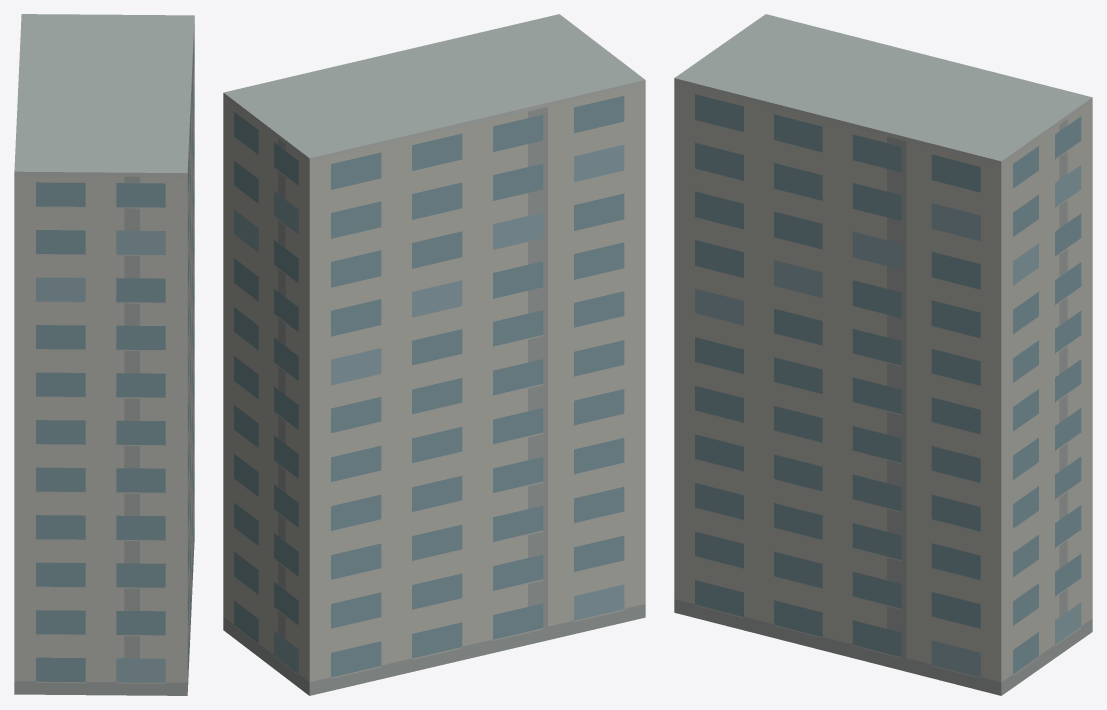
Rendered from residential-6f44c88d-12cd-43cc-a585-a2844a800493.glb.
3 renders of one model, left to right at view 1: azimuth 30°, elevation 25°; view 2: azimuth 150°, elevation 25°; view 3: azimuth 270°, elevation 25°, orthographic. The views are drawn at different scales.
Parts seen in each view (by area): view 1: residential-6f44c88d-12cd-43cc-a585-a2844a800493.tmp; view 2: residential-6f44c88d-12cd-43cc-a585-a2844a800493.tmp; view 3: residential-6f44c88d-12cd-43cc-a585-a2844a800493.tmp.
Part boxes in pixels (box(x1,y1,x2,y2)): residential-6f44c88d-12cd-43cc-a585-a2844a800493.tmp: box(14, 14, 194, 695); residential-6f44c88d-12cd-43cc-a585-a2844a800493.tmp: box(223, 14, 645, 695); residential-6f44c88d-12cd-43cc-a585-a2844a800493.tmp: box(674, 14, 1092, 695).
Size of the model in its own units: 18.34 by 31 by 22.
